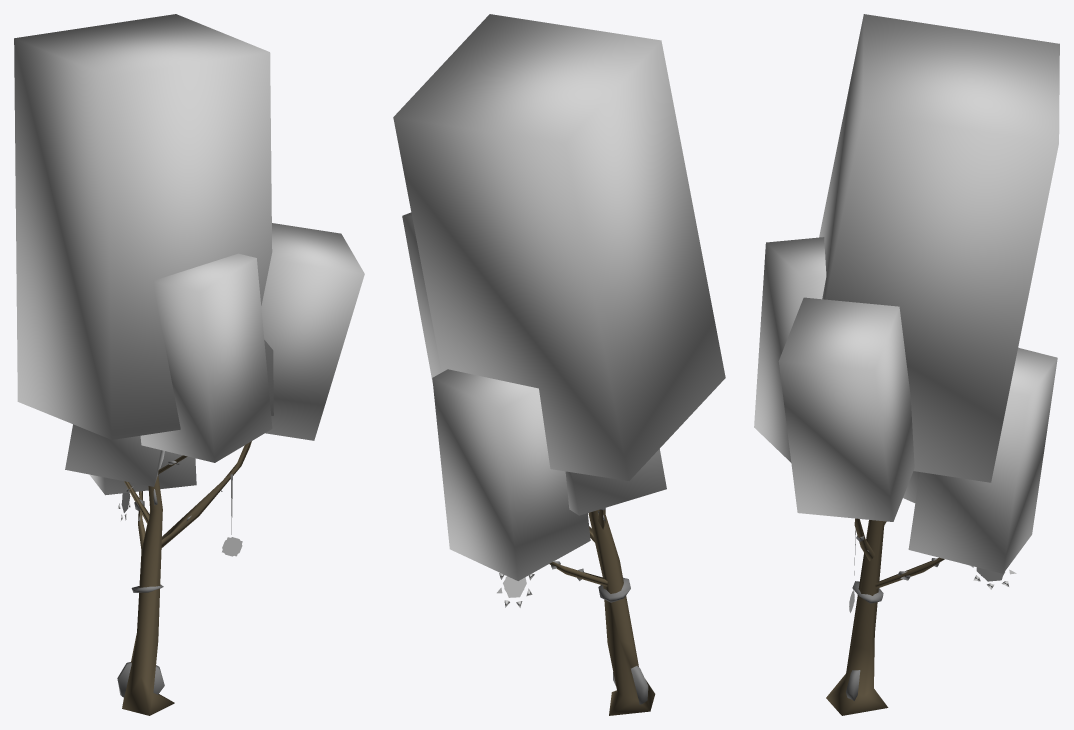
File: sm_tree_clockwork_02_LOD4.fbx
The picture shows the model from 3 angles, left to right: view 1: azimuth 30°, elevation 25°; view 2: azimuth 150°, elevation 25°; view 3: azimuth 270°, elevation 25°; orthographic projection. The views are drawn at different scales.
Visible parts, largest first — view 1: sm_tree_clockwork_02_LOD4; view 2: sm_tree_clockwork_02_LOD4; view 3: sm_tree_clockwork_02_LOD4.
Boxes of the visible parts, x1,y1,x2,y2 form: sm_tree_clockwork_02_LOD4: (14,14,364,715); sm_tree_clockwork_02_LOD4: (393,14,725,715); sm_tree_clockwork_02_LOD4: (754,14,1059,715).
Size of the model in its own units: 6.62 by 6.15 by 14.95.
